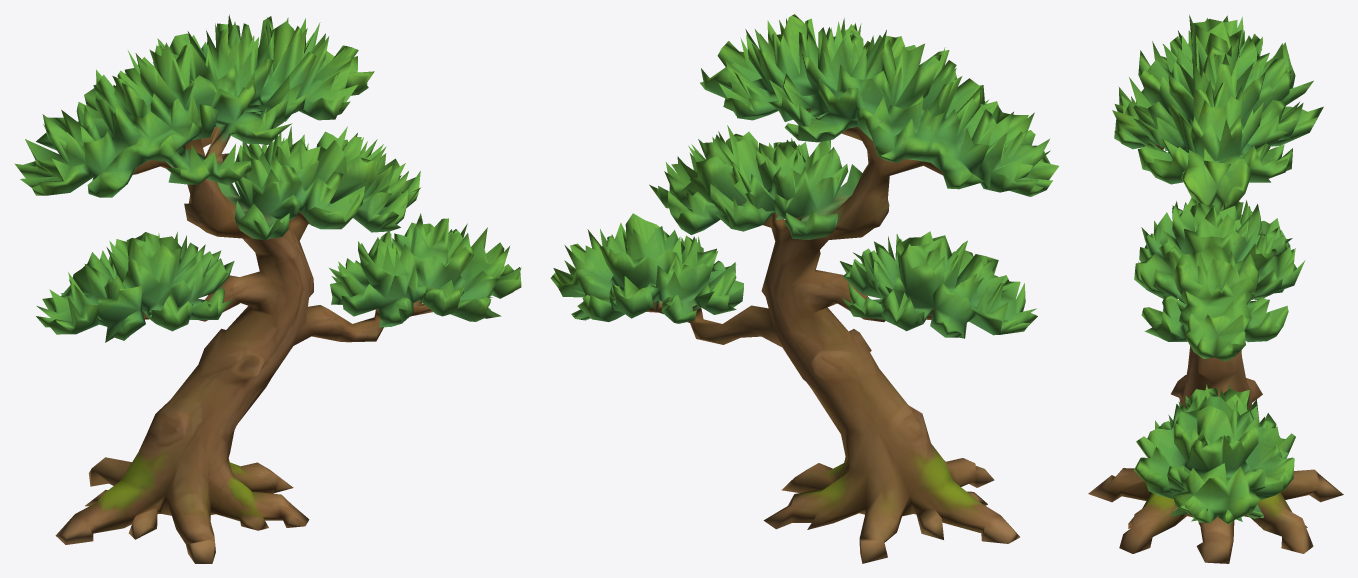
File: tree-bonsai.glb
The picture shows the model from 3 angles, left to right: view 1: azimuth 30°, elevation 25°; view 2: azimuth 150°, elevation 25°; view 3: azimuth 270°, elevation 25°; orthographic projection. The views are drawn at different scales.
Visible parts, largest first — view 1: tripo_node_421bc062-23fc-4ddb-bd90-e009b032ffd9; view 2: tripo_node_421bc062-23fc-4ddb-bd90-e009b032ffd9; view 3: tripo_node_421bc062-23fc-4ddb-bd90-e009b032ffd9.
Part boxes in pixels (x1,y1,x2,y2): tripo_node_421bc062-23fc-4ddb-bd90-e009b032ffd9: (14, 14, 521, 563); tripo_node_421bc062-23fc-4ddb-bd90-e009b032ffd9: (550, 14, 1058, 563); tripo_node_421bc062-23fc-4ddb-bd90-e009b032ffd9: (1088, 15, 1343, 563).
Bounding box in the file's own units: 0.9862 × 0.9053 × 0.4297.
1 material, 1 textured.
